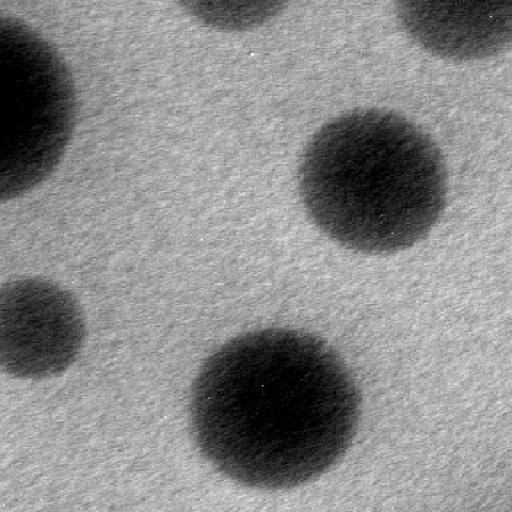Nanoparticles: (188, 329, 364, 491), (298, 108, 448, 254), (0, 16, 82, 214), (0, 278, 87, 383), (393, 0, 511, 64), (176, 0, 294, 34)
